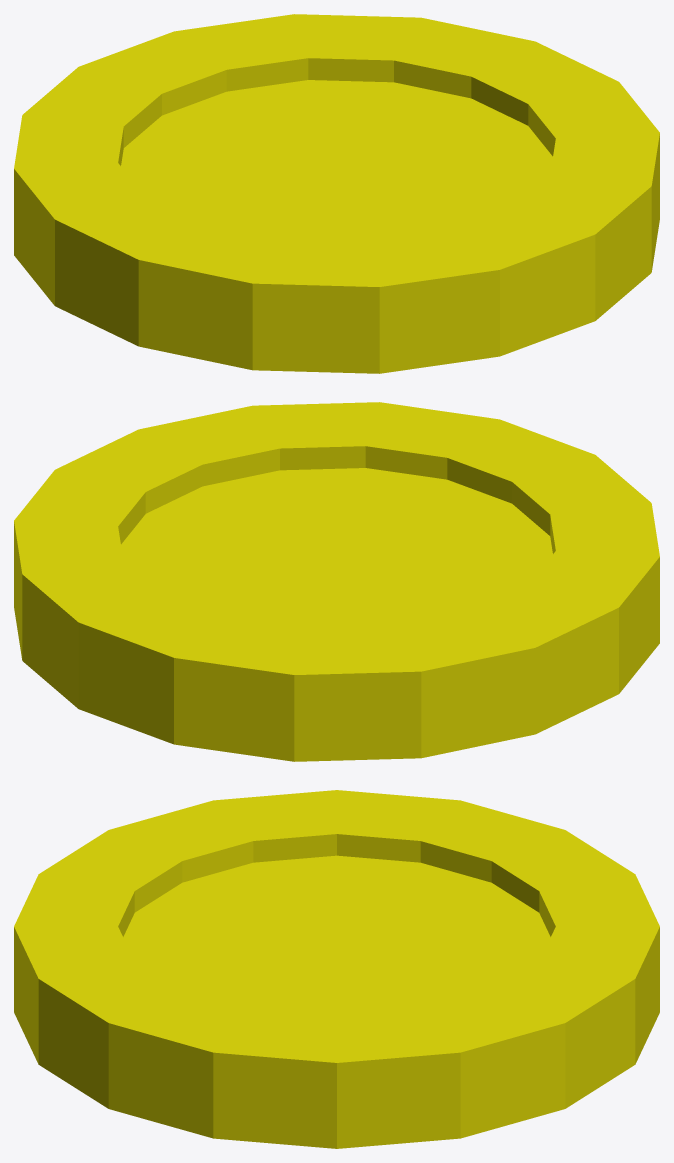
File: Coin.fbx
3 renders of one model, top to bottom at view 1: azimuth 30°, elevation 25°; view 2: azimuth 150°, elevation 25°; view 3: azimuth 270°, elevation 25°, orthographic.
Parts seen in each view (by area): view 1: bitcoin; view 2: bitcoin; view 3: bitcoin.
Part boxes in pixels (<box>): bitcoin: <box>14,14,659,373</box>; bitcoin: <box>14,402,659,761</box>; bitcoin: <box>14,790,659,1148</box>.
Size of the model in its own units: 19410 by 2849 by 19410.
